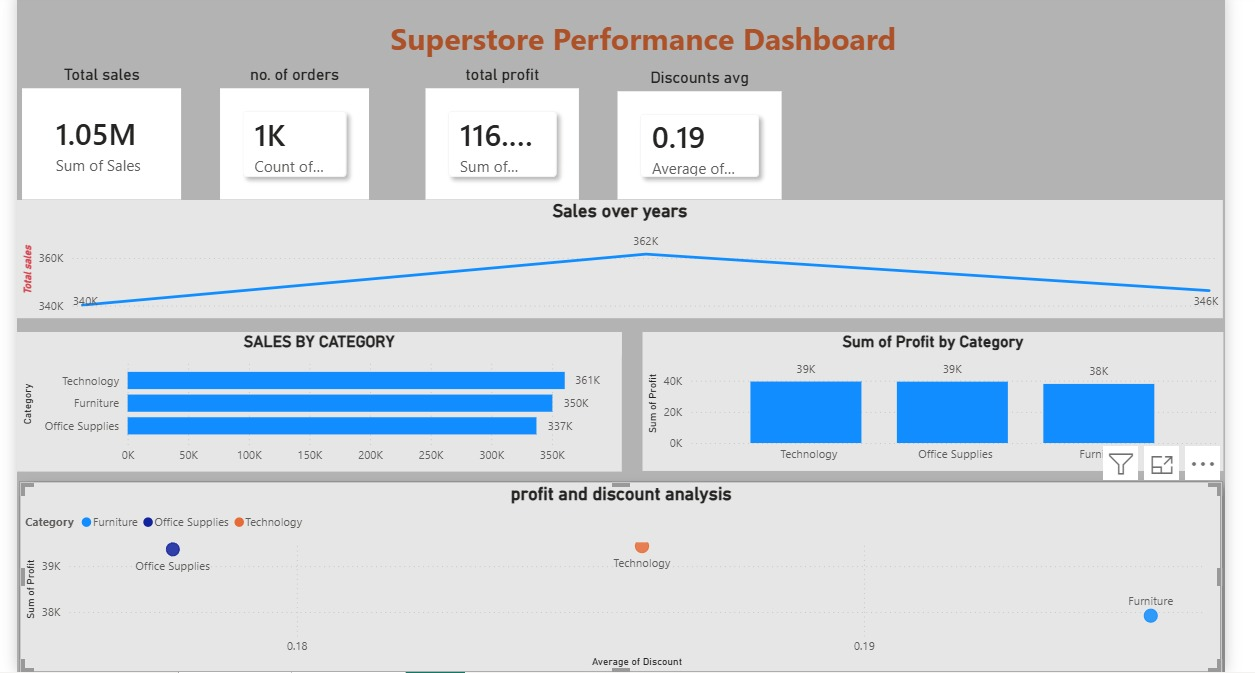

The page's visual inventory and layout, read from the dashboard file:
{"tool":"powerbi","page":{"name":"Page 1","canvas":[1280,720],"ordinal":0},"visuals":[{"type":"lineChart","title":"Sales over years","fields":{"Category":["Sample_Superstore_Dataset.Order Date.Variation.Date Hierarchy.Year"],"Y":["Sum(Sample_Superstore_Dataset.Sales)"]},"box":[0,219.5,1278.9,125.7],"z":0},{"type":"clusteredBarChart","title":"SALES BY CATEGORY","fields":{"Category":["Sample_Superstore_Dataset.Category"],"Y":["Sum(Sample_Superstore_Dataset.Sales)"]},"box":[0,359.5,641,147.9],"z":1000},{"type":"clusteredColumnChart","fields":{"Y":["Sum(Sample_Superstore_Dataset.Profit)"],"Category":["Sample_Superstore_Dataset.Category"]},"box":[663.3,359.1,616.1,147.4],"z":2000},{"type":"scatterChart","title":"profit and discount analysis","fields":{"X":["Avg(Sample_Superstore_Dataset.Discount)"],"Y":["Sum(Sample_Superstore_Dataset.Profit)"],"Size":["Sum(Sample_Superstore_Dataset.Sales)"],"Series":["Sample_Superstore_Dataset.Category"]},"box":[3.8,517.8,1273.7,202.2],"z":3000},{"type":"cardVisual","title":"Total sales","fields":{"Data":["Sum(Sample_Superstore_Dataset.Sales)"]},"box":[0,76.3,179.7,147.9],"z":3001},{"type":"cardVisual","title":"total profit","fields":{"Data":["Sum(Sample_Superstore_Dataset.Profit)"]},"box":[427.9,76.3,173.4,147.9],"z":3002},{"type":"cardVisual","title":"no. of orders","fields":{"Data":["CountNonNull(Sample_Superstore_Dataset.Order ID)"]},"box":[210,76.3,168.6,147.9],"z":3003},{"type":"cardVisual","title":"Discounts avg","fields":{"Data":["Avg(Sample_Superstore_Dataset.Discount)"]},"box":[631.5,79.5,184.5,144.7],"z":3004},{"type":"textbox","box":[224.3,20.7,879.6,55.7],"z":3005}]}

Visuals, with their boxes on the page's 1280x720 design canvas (x1, y1, x2, y2). These are canvas units, not pixel positions in the 1255x673 screenshot, which may show the page scaled, cropped or inside an application window:
"Sales over years" lineChart: <box>0,220,1279,345</box>
"SALES BY CATEGORY" clusteredBarChart: <box>0,360,641,507</box>
clusteredColumnChart - Sum(Sample_Superstore_Dataset.Profit) x Sample_Superstore_Dataset.Category: <box>663,359,1279,506</box>
"profit and discount analysis" scatterChart: <box>4,518,1278,720</box>
"Total sales" cardVisual: <box>0,76,180,224</box>
"total profit" cardVisual: <box>428,76,601,224</box>
"no. of orders" cardVisual: <box>210,76,379,224</box>
"Discounts avg" cardVisual: <box>632,80,816,224</box>
textbox: <box>224,21,1104,76</box>
